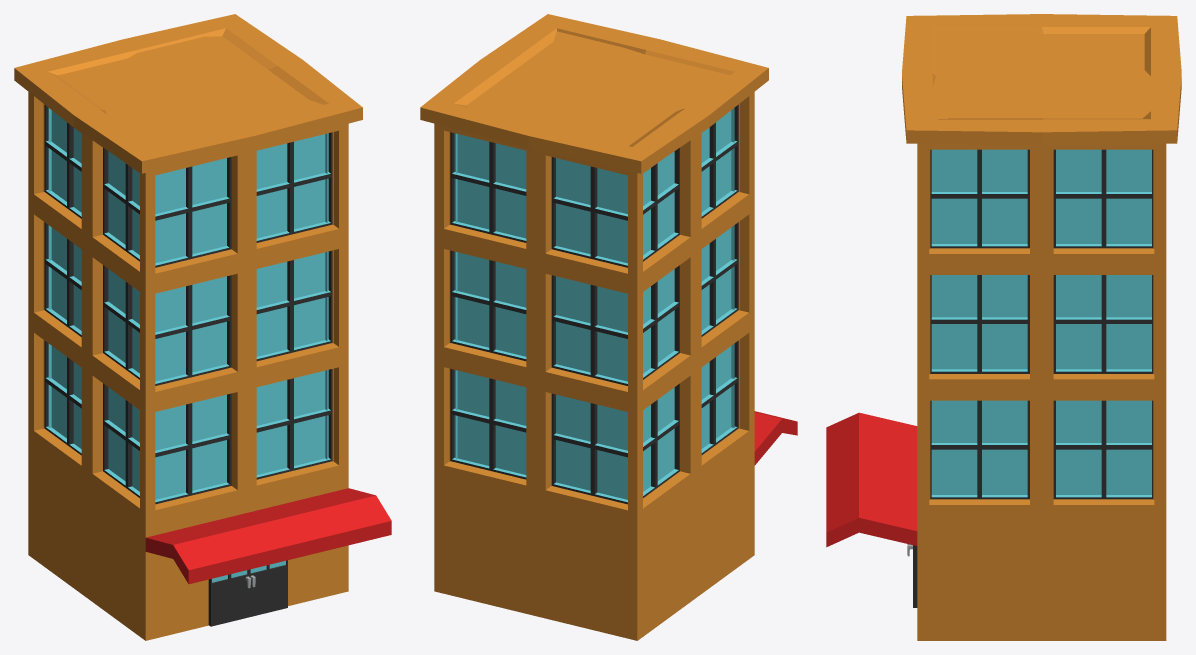
File: Building blend Copper.fbx
3 renders of one model, left to right at view 1: azimuth 30°, elevation 25°; view 2: azimuth 150°, elevation 25°; view 3: azimuth 270°, elevation 25°, orthographic. The views are drawn at different scales.
Visible parts, largest first — view 1: Cube.008, Plane.004; view 2: Cube.008; view 3: Cube.008.
Boxes of the visible parts, x1,y1,x2,y2 form: Cube.008: (14, 14, 391, 640); Plane.004: (208, 560, 287, 626); Cube.008: (420, 14, 797, 640); Cube.008: (826, 14, 1181, 640).
Size of the model in its own units: 1701 by 3454 by 2161.
